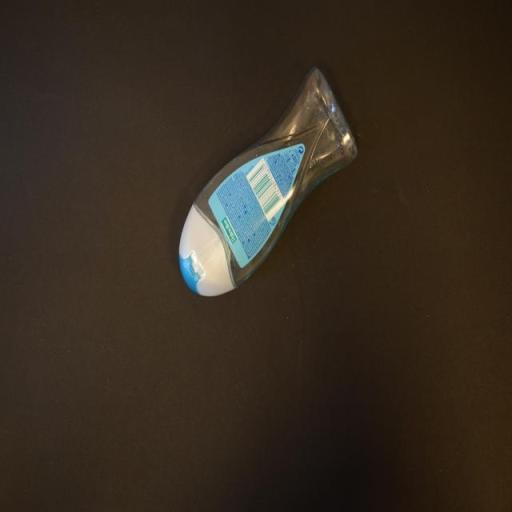plastic: (178, 67, 360, 297)
